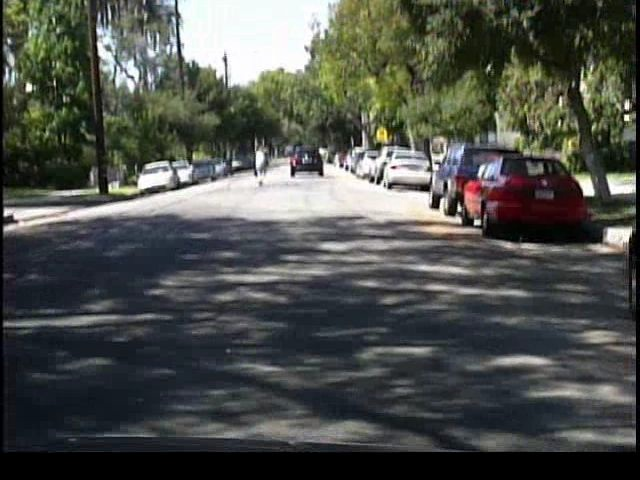person: (250, 154, 275, 201)
